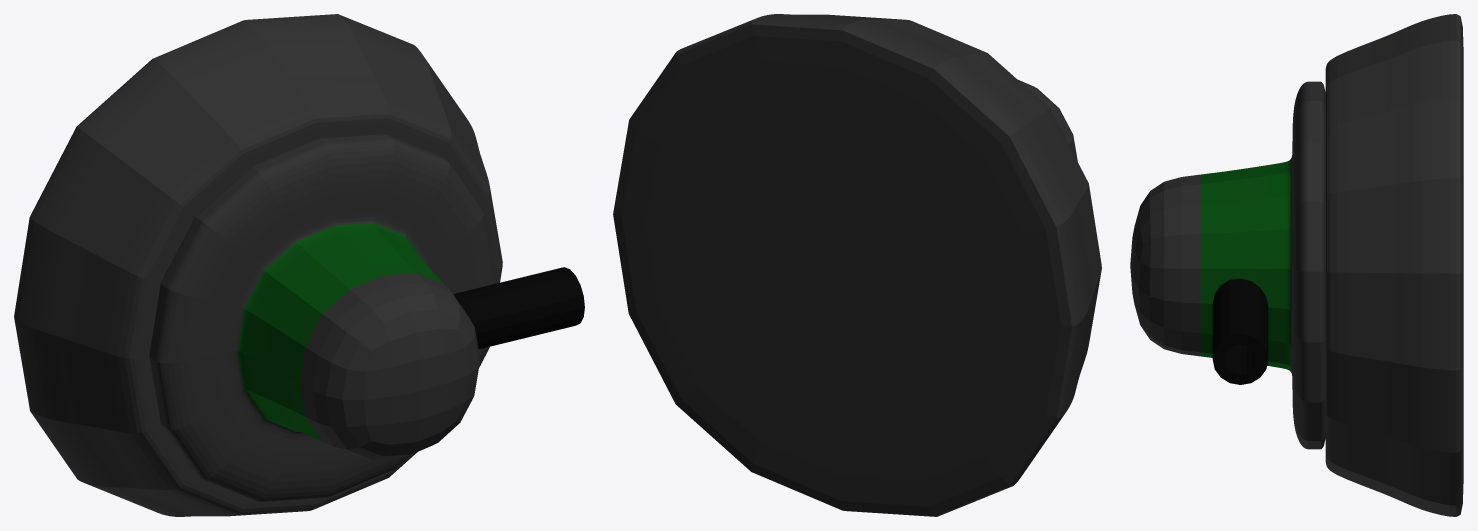
3 renders of one model, left to right at view 1: azimuth 30°, elevation 25°; view 2: azimuth 150°, elevation 25°; view 3: azimuth 270°, elevation 25°, orthographic. The views are drawn at different scales.
Visible parts, largest first — view 1: top, bottom, muzzle; view 2: bottom, top; view 3: bottom, top, muzzle.
Boxes of the visible parts, x1=… form: top: x1=149, y1=134, x2=495, y2=502; bottom: x1=14, y1=14, x2=502, y2=516; muzzle: x1=453, y1=267, x2=584, y2=349; bottom: x1=613, y1=14, x2=1101, y2=516; top: x1=1017, y1=79, x2=1077, y2=161; bottom: x1=1325, y1=14, x2=1463, y2=516; top: x1=1130, y1=81, x2=1325, y2=449; muzzle: x1=1212, y1=278, x2=1268, y2=384.
Size of the model in its own units: 223 by 223 by 149.
